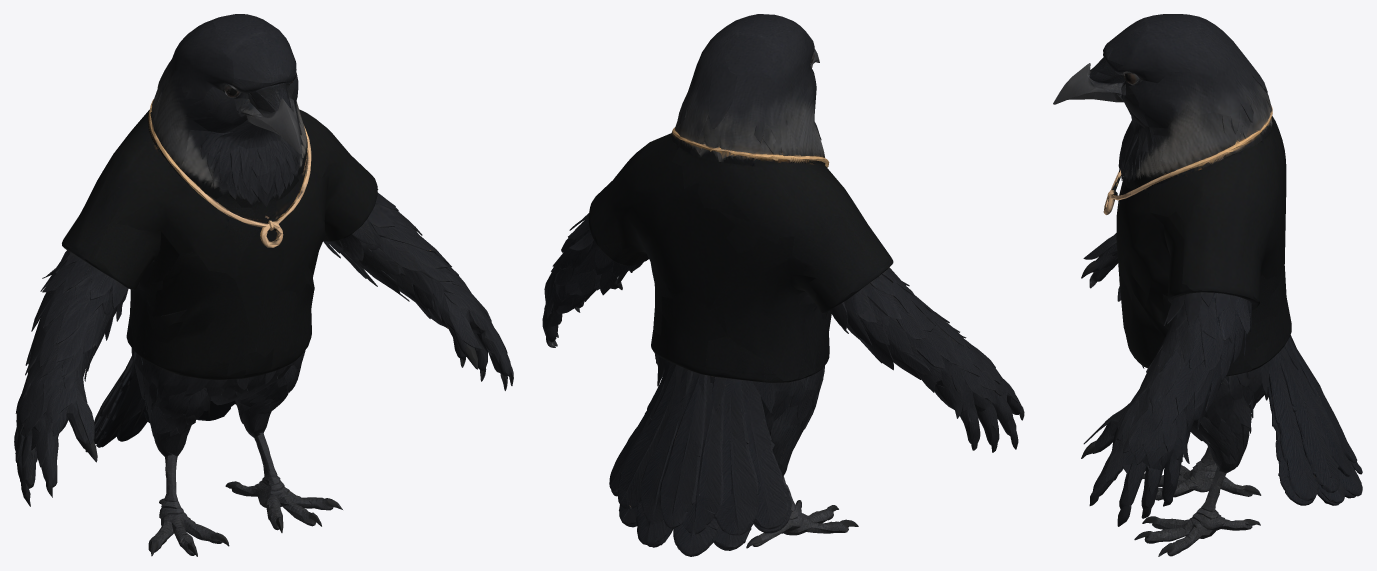
Rendered from kul-mesh.glb.
3 views of the same model, side by side, from view 1: azimuth 30°, elevation 25°; view 2: azimuth 150°, elevation 25°; view 3: azimuth 270°, elevation 25° (orthographic). The views are drawn at different scales.
Parts seen in each view (by area): view 1: Mesh_0; view 2: Mesh_0; view 3: Mesh_0.
Part boxes in pixels (x1,y1,x2,y2): Mesh_0: (14, 14, 513, 556); Mesh_0: (542, 14, 1024, 556); Mesh_0: (1053, 14, 1362, 556).
Bounding box in the file's own units: 1.89 × 1.9 × 1.08.
1 material, 1 textured.
